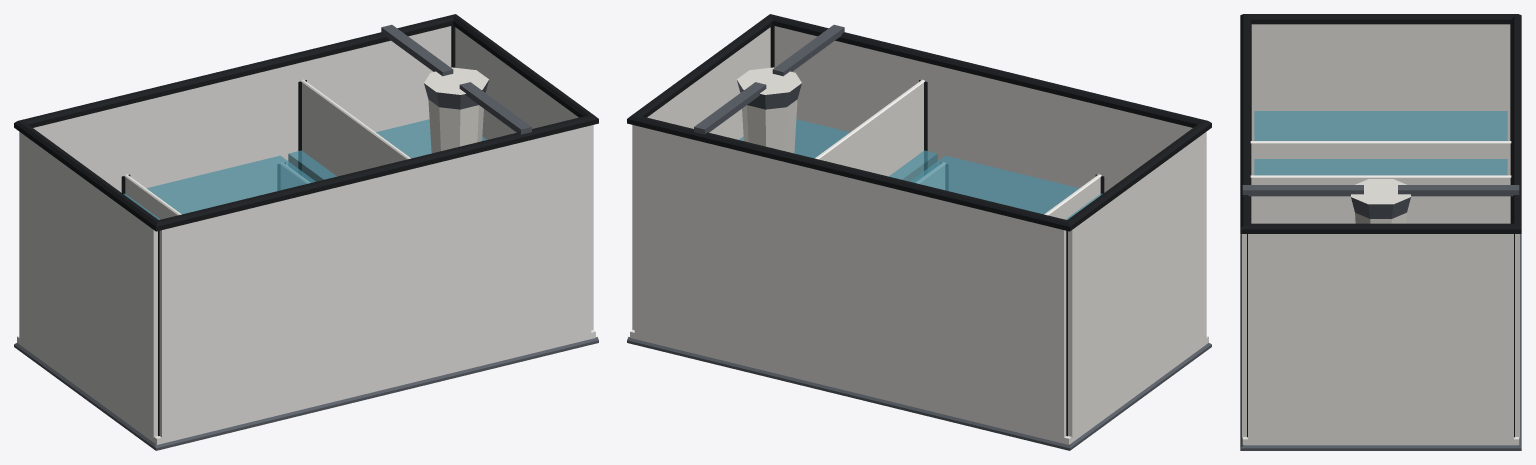
Rendered from glass-sump-tank-ebccc0.glb.
3 renders of one model, left to right at view 1: azimuth 30°, elevation 25°; view 2: azimuth 150°, elevation 25°; view 3: azimuth 270°, elevation 25°, orthographic.
Visible parts, largest first — view 1: glass-sump-tank, water, filter-sock; view 2: glass-sump-tank, water, filter-sock; view 3: glass-sump-tank, water, filter-sock.
Boxes of the visible parts, box(x1,y1,x2,y2) form: glass-sump-tank: box(14, 14, 598, 450); water: box(123, 119, 486, 219); filter-sock: box(381, 24, 531, 153); glass-sump-tank: box(627, 14, 1211, 450); water: box(739, 119, 1102, 219); filter-sock: box(694, 24, 844, 153); glass-sump-tank: box(1240, 14, 1521, 450); water: box(1254, 111, 1507, 175); filter-sock: box(1242, 179, 1519, 223).
Bounding box in the file's own units: 0.9 × 0.449 × 0.5.
